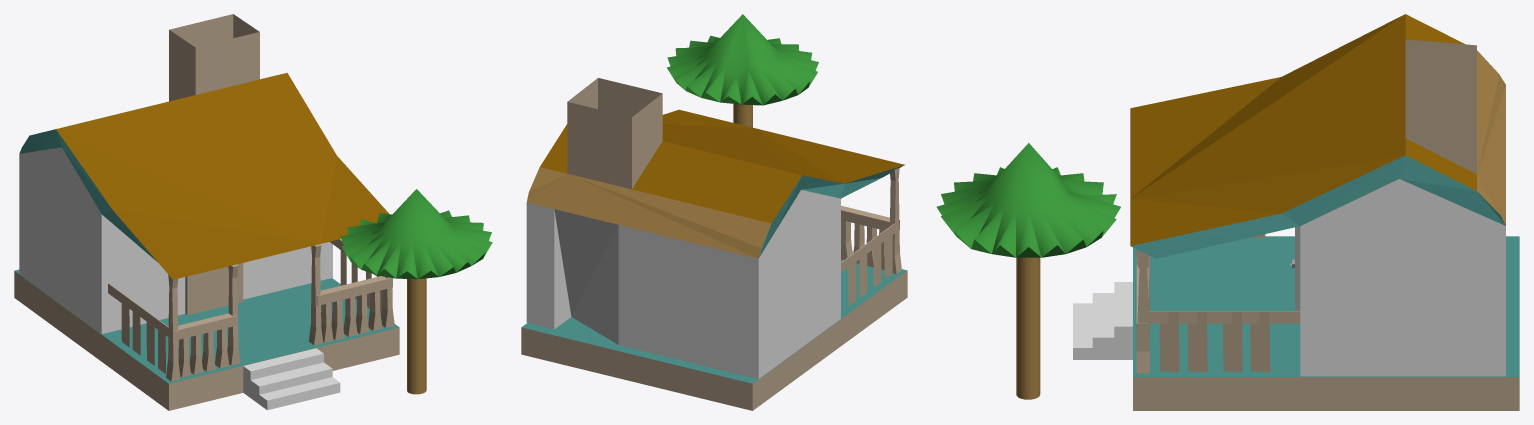
The model's file is house.fbx.
3 views of the same model, side by side, from view 1: azimuth 30°, elevation 25°; view 2: azimuth 150°, elevation 25°; view 3: azimuth 270°, elevation 25° (orthographic). The views are drawn at different scales.
Parts seen in each view (by area): view 1: Ngoi_nha, Cay_du; view 2: Ngoi_nha, Cay_du; view 3: Ngoi_nha, Cay_du.
Boxes of the visible parts, x1,y1,x2,y2 form: Ngoi_nha: (14, 14, 399, 410); Cay_du: (340, 189, 492, 394); Ngoi_nha: (521, 78, 907, 410); Cay_du: (667, 14, 818, 127); Ngoi_nha: (1073, 14, 1519, 410); Cay_du: (936, 143, 1120, 399).
Size of the model in its own units: 29.88 by 25.82 by 43.55.
